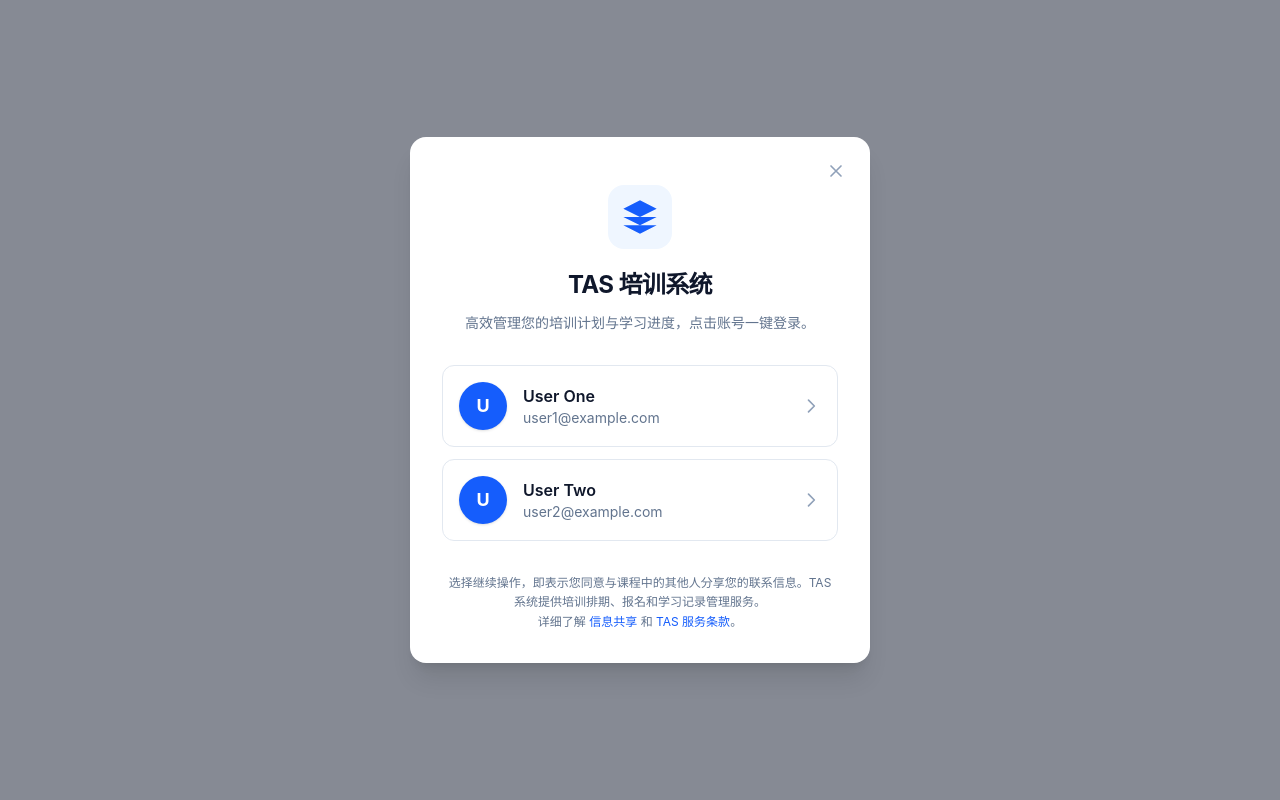
AuthModal › should select user and show continue button
The width and height of the screenshot is (1280, 800).
Note: Select user
Click the text "User One" at (559, 396), box [523, 386, 595, 406]
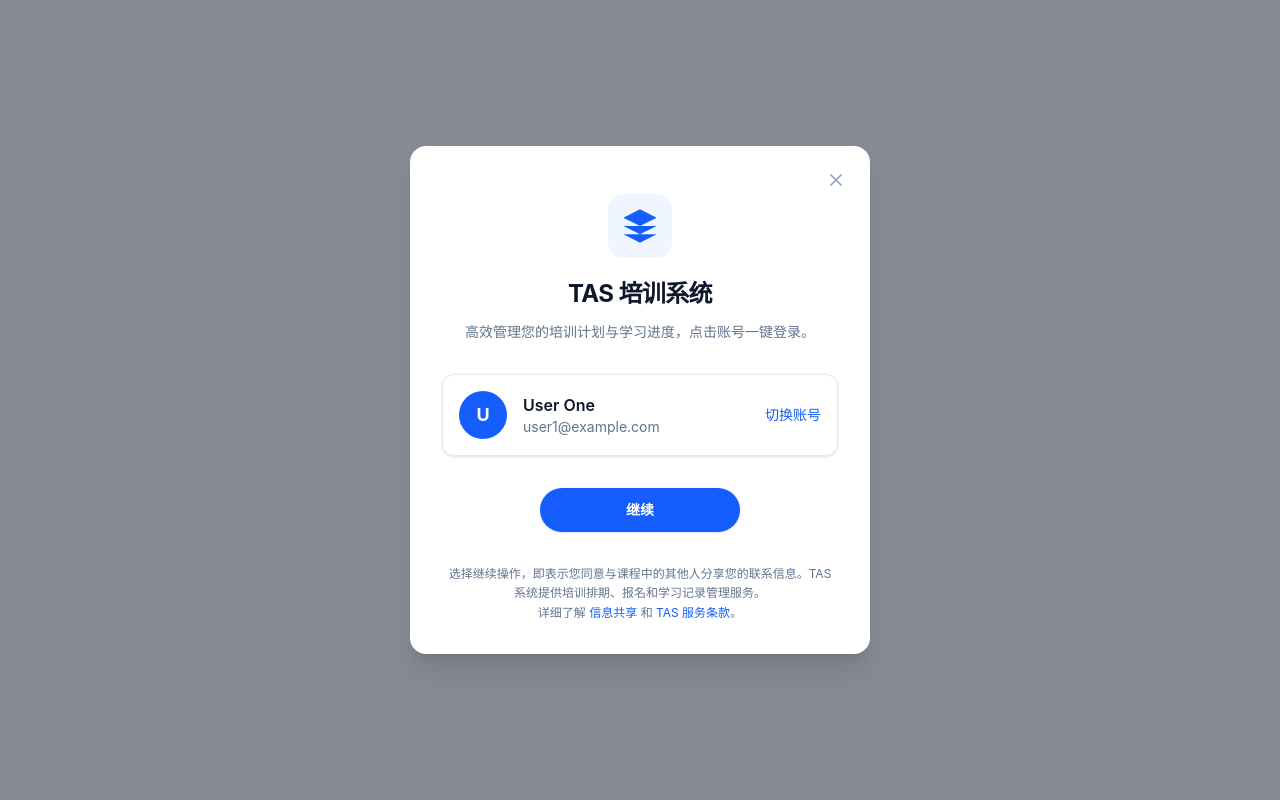
Expected: the button "继续" is shown, [540, 488, 740, 532]
Expected: the button "切换账号" is shown, [765, 405, 821, 425]
